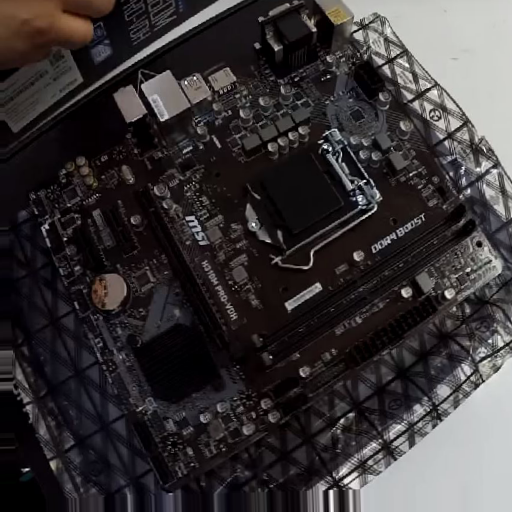CPU: (247, 131, 379, 260)
GPU: (136, 182, 242, 365)
MOTHERBOARD: (33, 29, 502, 485)
RAM: (240, 205, 479, 378)
